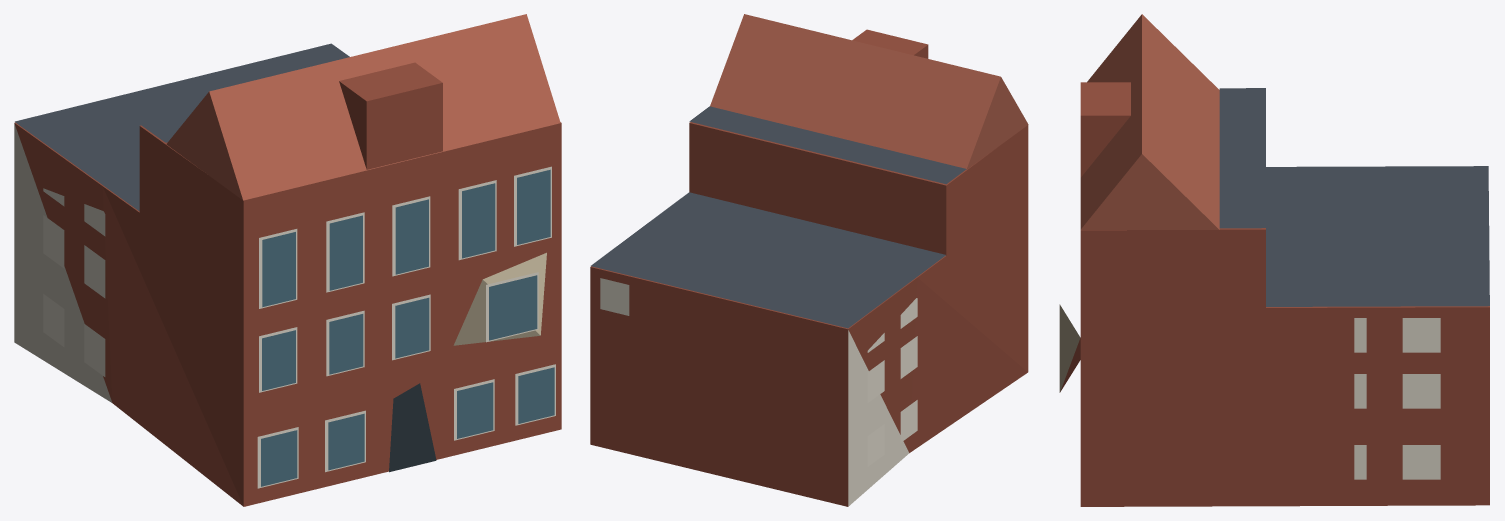
Rendered from pianola-museum.lod2.glb.
3 views of the same model, side by side, from view 1: azimuth 30°, elevation 25°; view 2: azimuth 150°, elevation 25°; view 3: azimuth 270°, elevation 25° (orthographic). The views are drawn at different scales.
Parts seen in each view (by area): view 1: lod2; view 2: lod2; view 3: lod2.
Boxes of the visible parts, x1=… form: lod2: x1=14, y1=14, x2=561, y2=506; lod2: x1=590, y1=14, x2=1028, y2=506; lod2: x1=1059, y1=14, x2=1489, y2=506.
Bounding box in the file's own units: 14.09 × 16.37 × 18.24.
